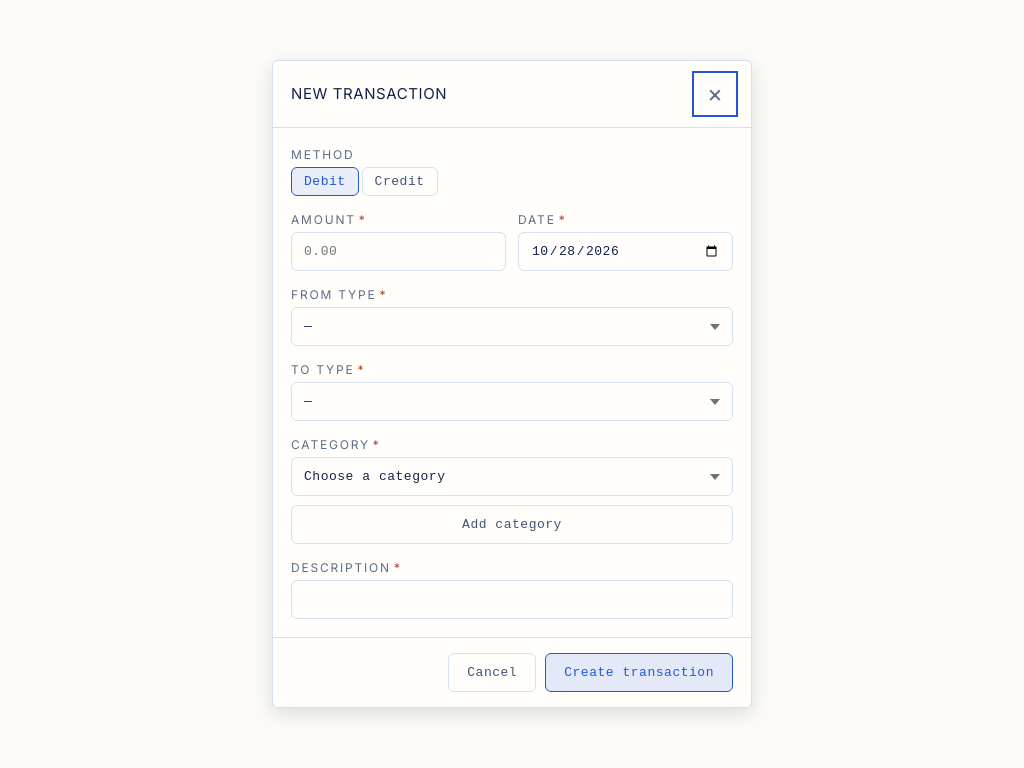
Test: TransactionForm › should reject an invalid amount () before submission
This screenshot has width=1024, height=768.
Type "Lunch" into the field named "Description" at (512, 600), box [291,580,733,619]
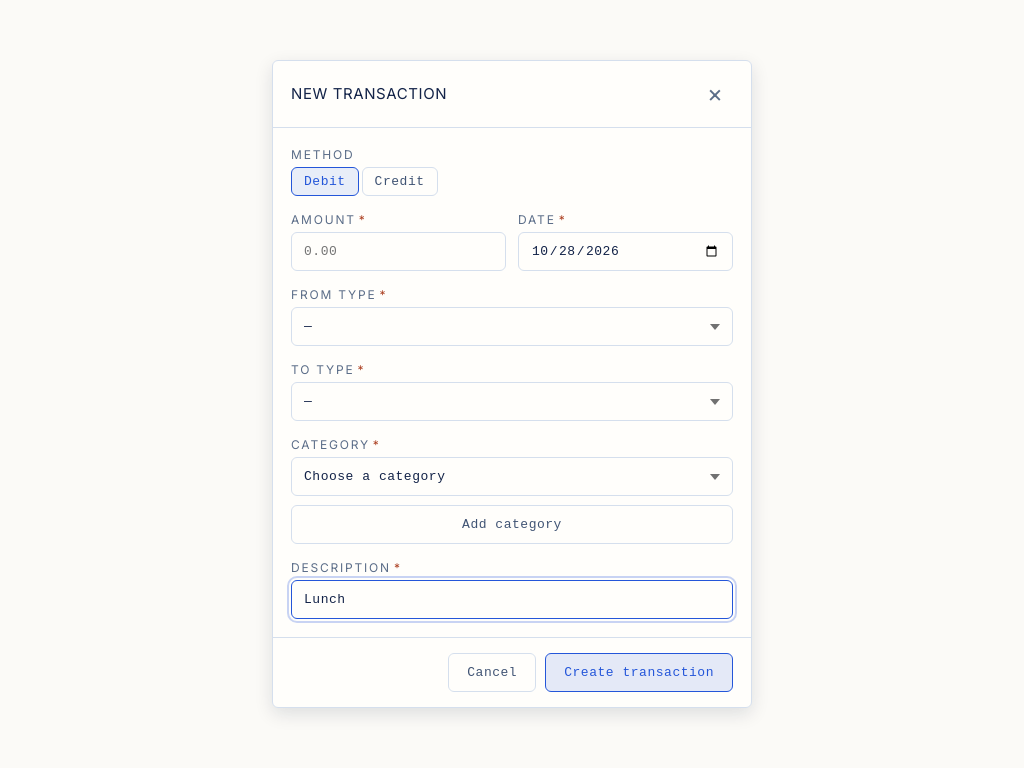
Click the button "Create transaction" at (639, 672), box [545,653,733,692]
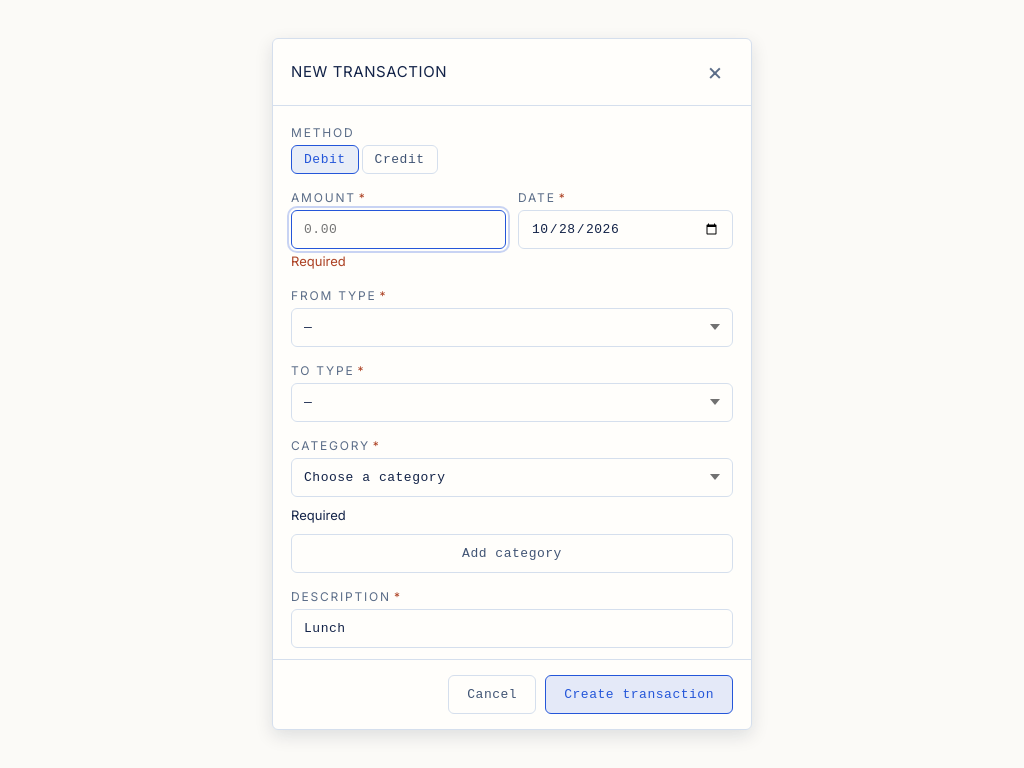
Check: the text "Required" is shown, box [291,253,346,269]
